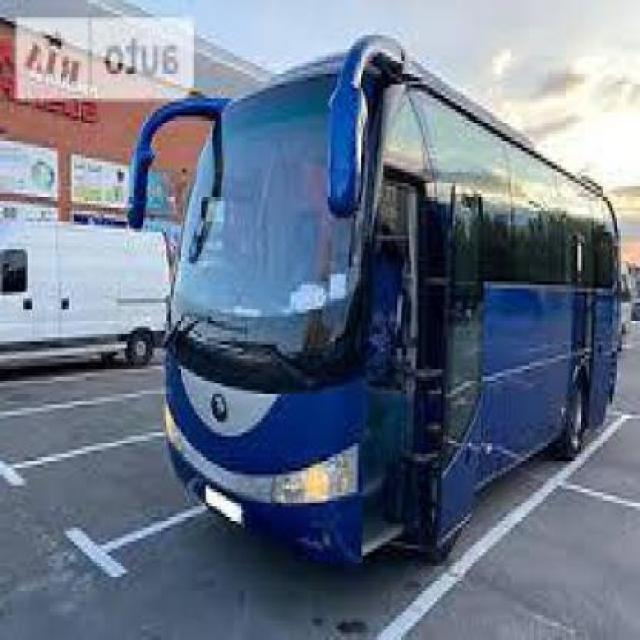bus: (126, 34, 618, 570)
